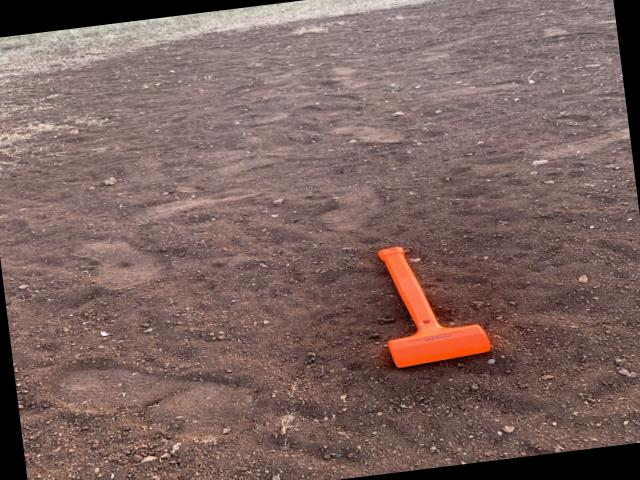hammer: (374, 236, 494, 370)
